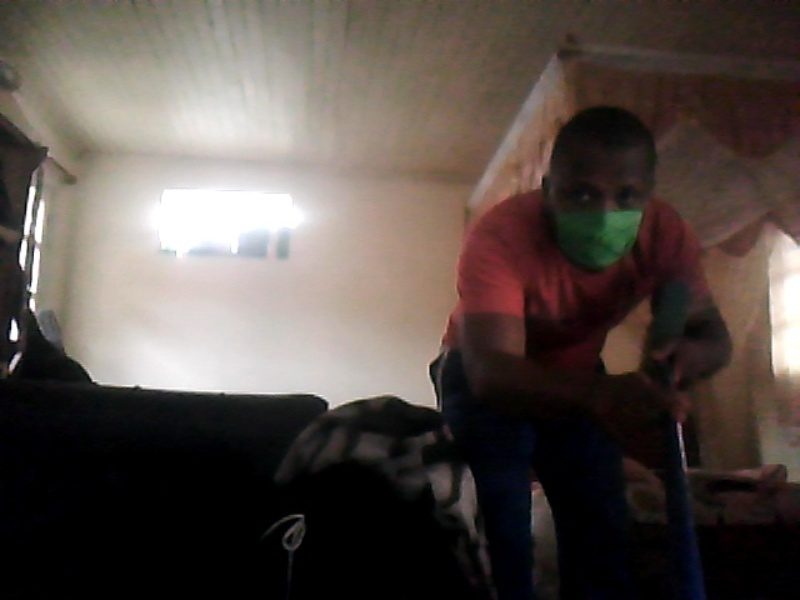ManaoArotava: (530, 100, 666, 293)
